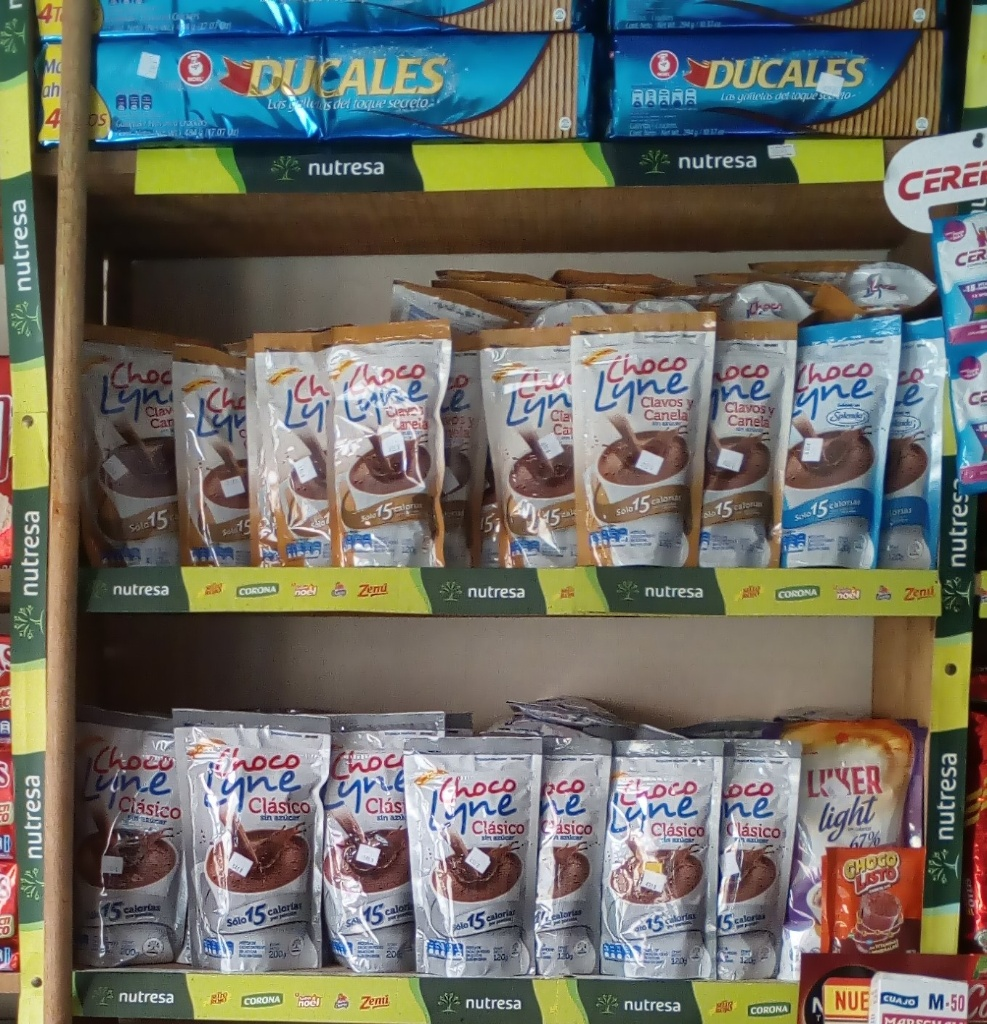COL0170103SOB02000: (832, 855, 920, 958)
